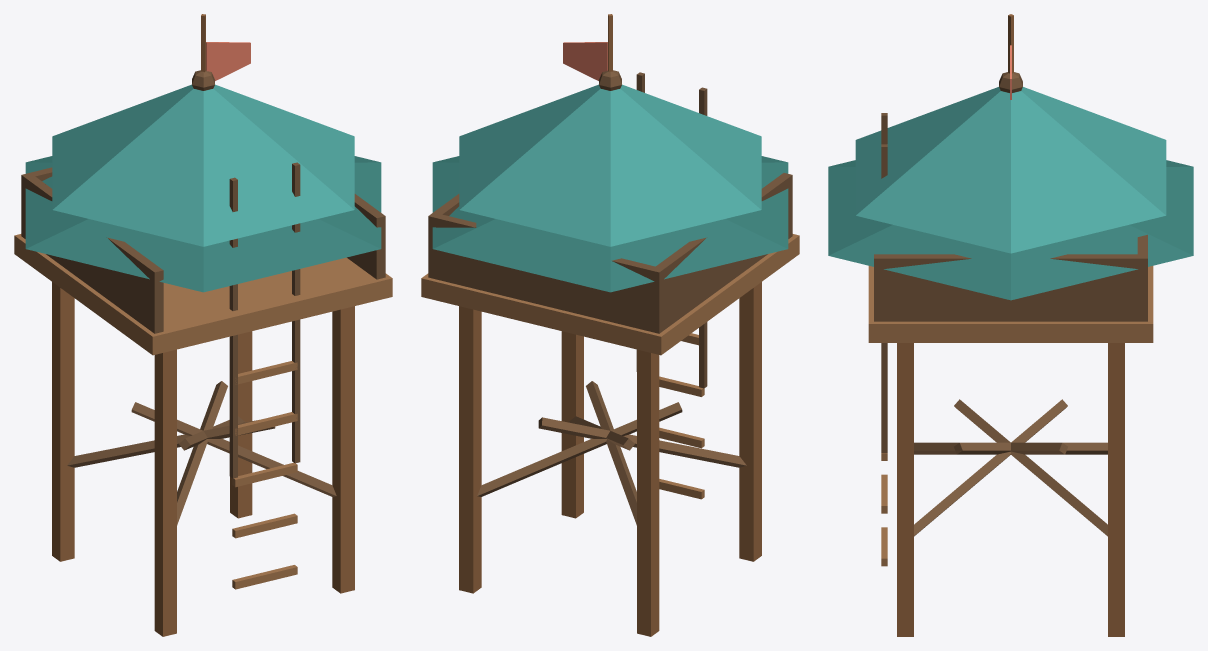
The model's file is xy_isle_lookout.glb.
The picture shows the model from 3 angles, left to right: view 1: azimuth 30°, elevation 25°; view 2: azimuth 150°, elevation 25°; view 3: azimuth 270°, elevation 25°; orthographic projection. The views are drawn at different scales.
Visible parts, largest first — view 1: Lookout; view 2: Lookout; view 3: Lookout.
Part boxes in pixels (box(x1,y1,x2,y2)): Lookout: box(14, 14, 392, 636); Lookout: box(421, 14, 799, 636); Lookout: box(828, 14, 1193, 636).
Size of the model in its own units: 4 by 6 by 3.46.
